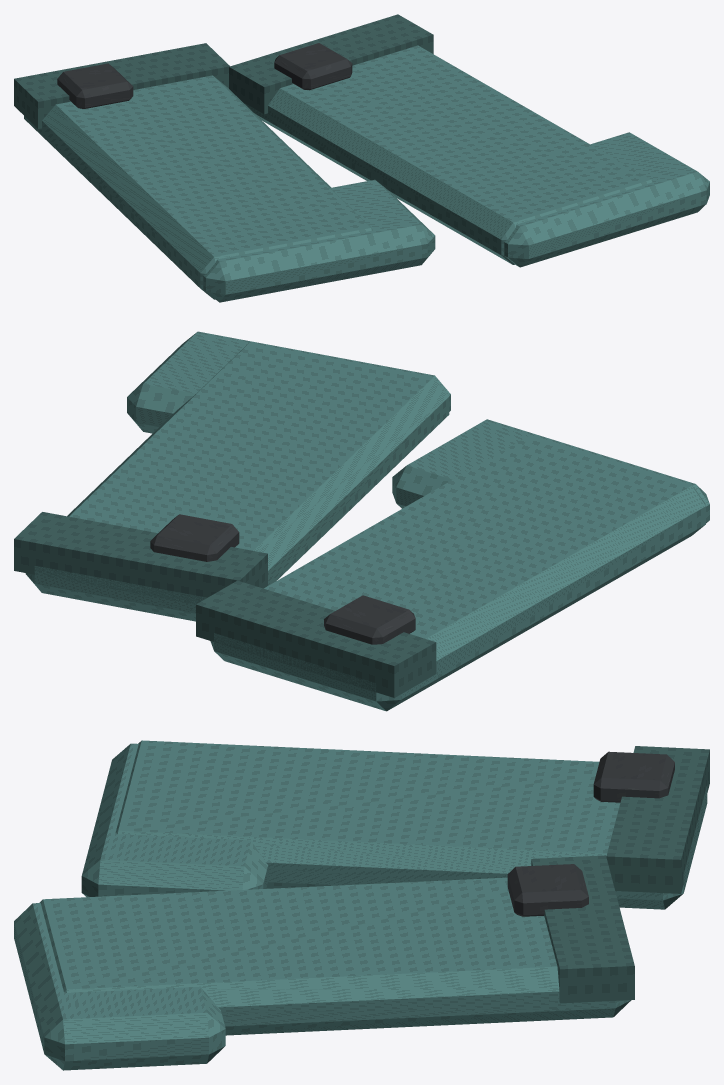
Rendered from thermal_socks.glb.
3 views of the same model, one above another, from view 1: azimuth 30°, elevation 25°; view 2: azimuth 150°, elevation 25°; view 3: azimuth 270°, elevation 25° (orthographic). The views are drawn at different scales.
Parts seen in each view (by area): view 1: block_knitted leg (×2), block_toe (×2), block_binding (×2), block_heating module (×2); view 2: block_knitted leg (×2), block_binding (×2), block_toe (×2), block_heating module (×2); view 3: block_knitted leg (×2), block_toe (×2), block_binding (×2), block_heating module (×2).
Boxes of the visible parts, left/top/right/bottom form: block_knitted leg (×2): left=24, top=45, right=652, bottom=299; block_toe (×2): left=203, top=132, right=709, bottom=302; block_binding (×2): left=14, top=14, right=433, bottom=128; block_heating module (×2): left=57, top=43, right=352, bottom=108; block_knitted leg (×2): left=25, top=343, right=705, bottom=711; block_binding (×2): left=14, top=512, right=436, bottom=697; block_toe (×2): left=127, top=331, right=709, bottom=523; block_heating module (×2): left=150, top=514, right=415, bottom=644; block_knitted leg (×2): left=39, top=740, right=707, bottom=1035; block_toe (×2): left=14, top=743, right=268, bottom=1070; block_binding (×2): left=531, top=746, right=709, bottom=1003; block_heating module (×2): left=507, top=751, right=674, bottom=916.
Size of the model in its own units: 0.2577 by 0.031 by 0.2593.
Materials: 1 (1 with a texture image).
